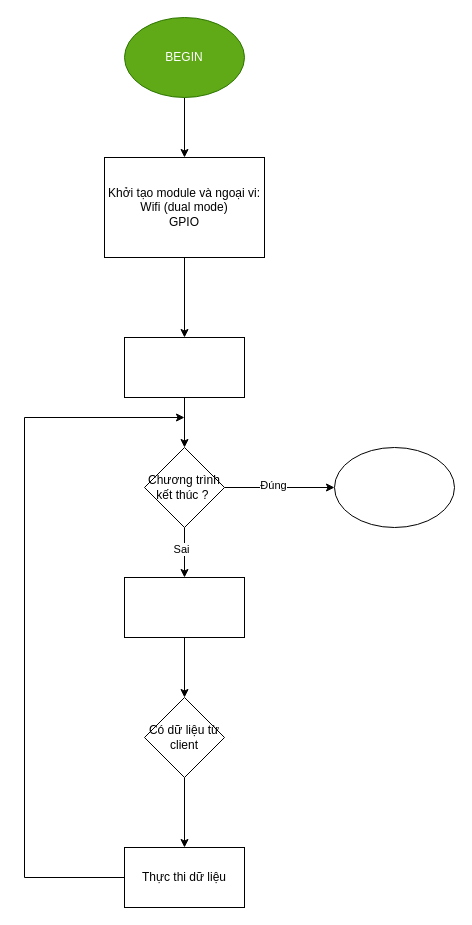
This 472x925 diagram has some shape labels left out. Each missing label, with the centre of its shape:
END: point 394,487
Kết nối wifi với router: point 184,367
Lắng nghe dữ liệu từ wifi client: point 184,607
